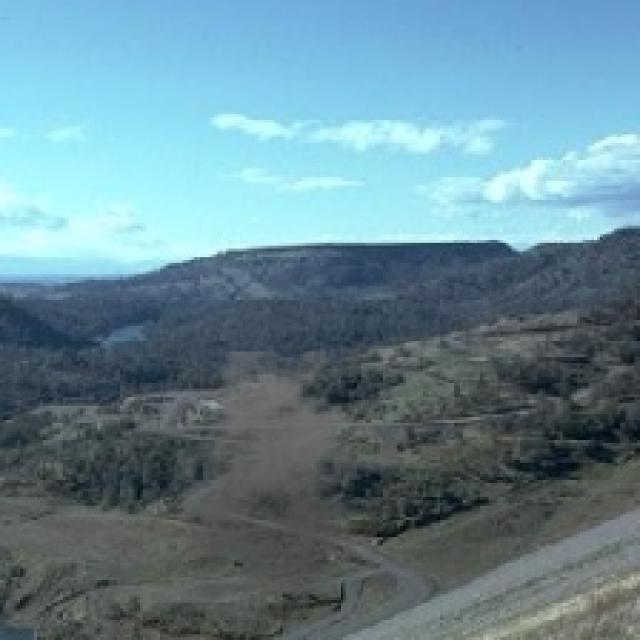Smoke: (162, 351, 392, 600)
